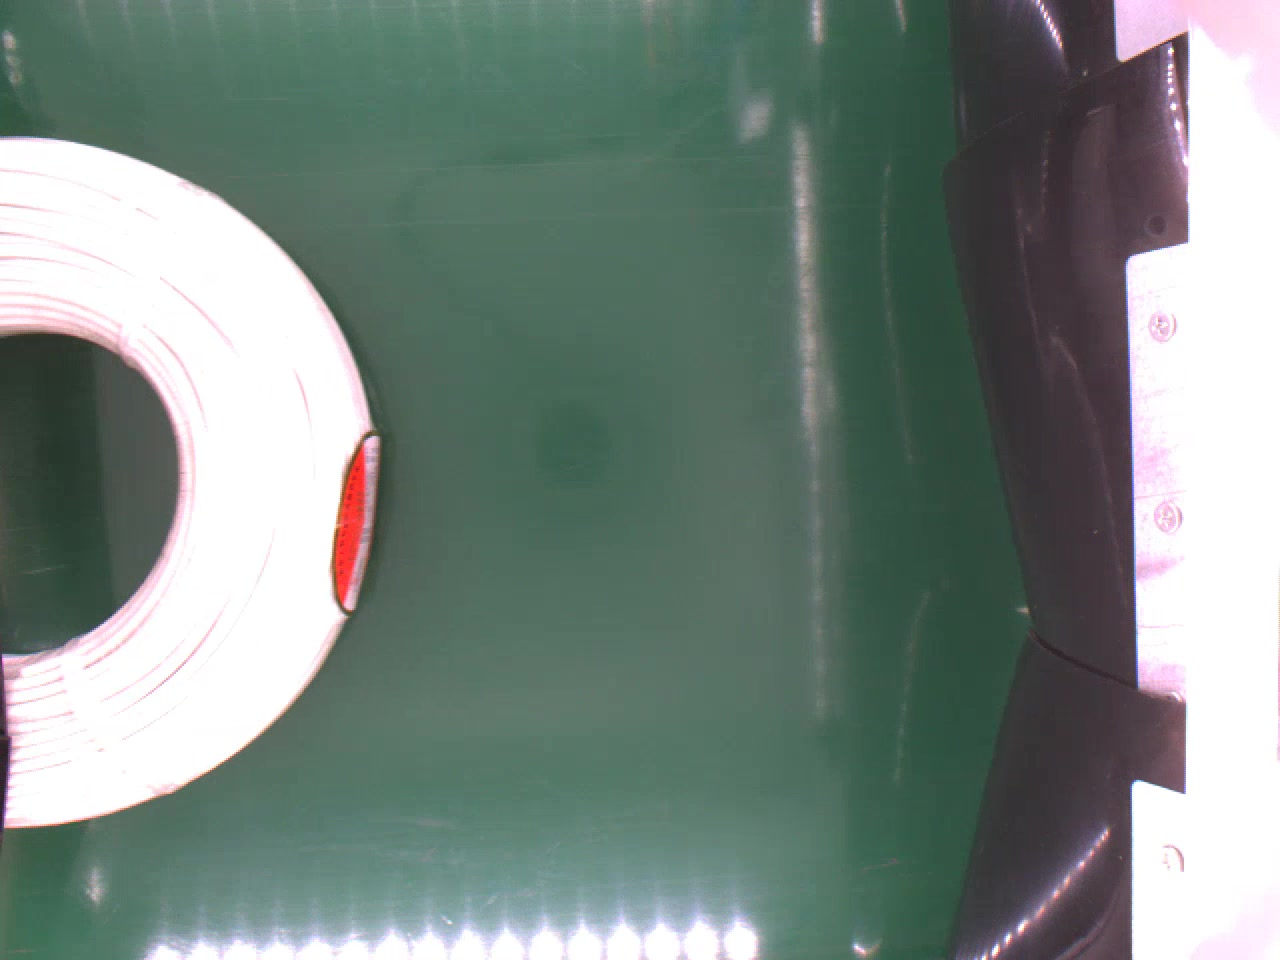white: (0, 130, 375, 830)
